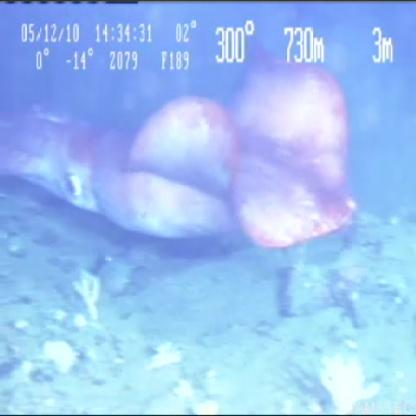Bio: (1, 45, 360, 260)
